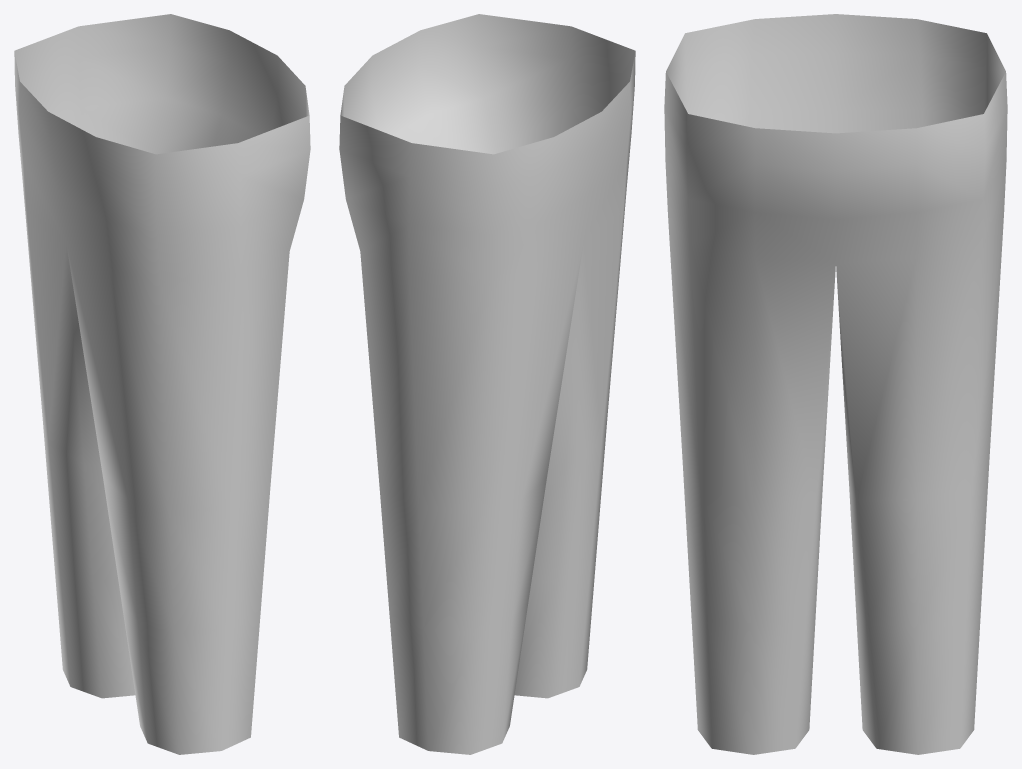
File: yoga_pants.fbx
The picture shows the model from 3 angles, left to right: view 1: azimuth 30°, elevation 25°; view 2: azimuth 150°, elevation 25°; view 3: azimuth 270°, elevation 25°; orthographic projection. The views are drawn at different scales.
Parts seen in each view (by area): view 1: Cube.014; view 2: Cube.014; view 3: Cube.014.
Boxes of the visible parts, box(x1,y1,x2,y2) form: Cube.014: box(14, 14, 310, 754); Cube.014: box(339, 14, 635, 754); Cube.014: box(664, 14, 1007, 754).
Size of the model in its own units: 106 by 271 by 128.
